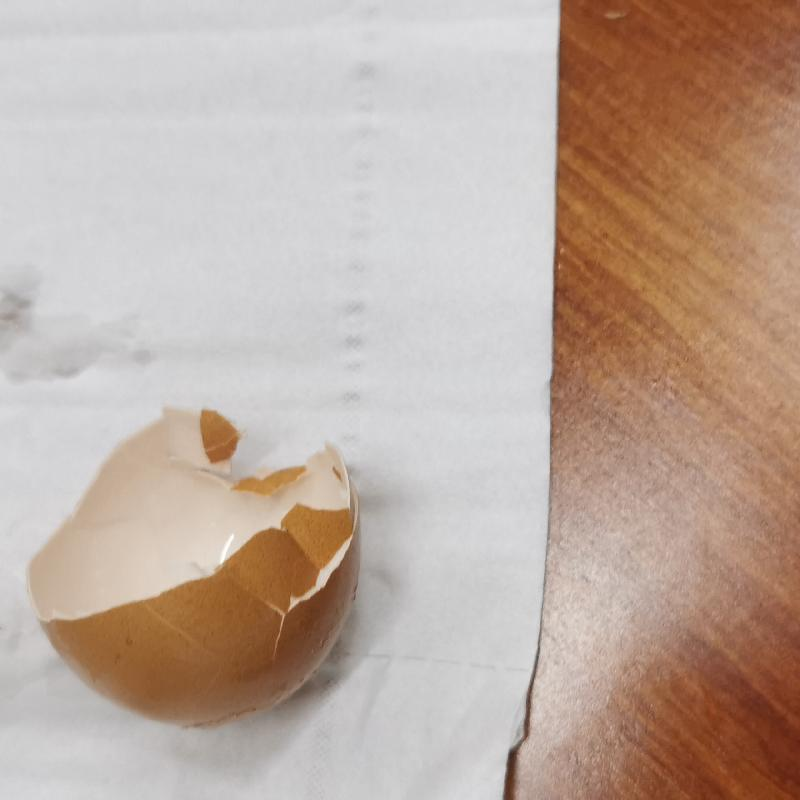eggshell: (23, 408, 368, 728)
